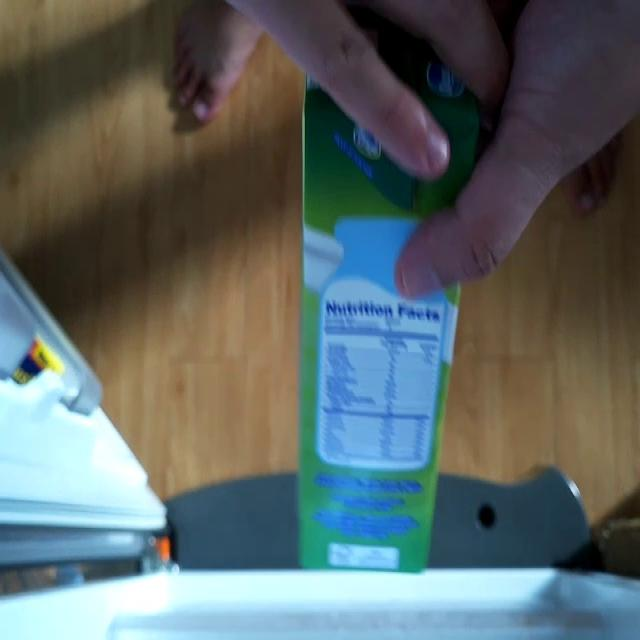milk: (292, 39, 487, 581)
